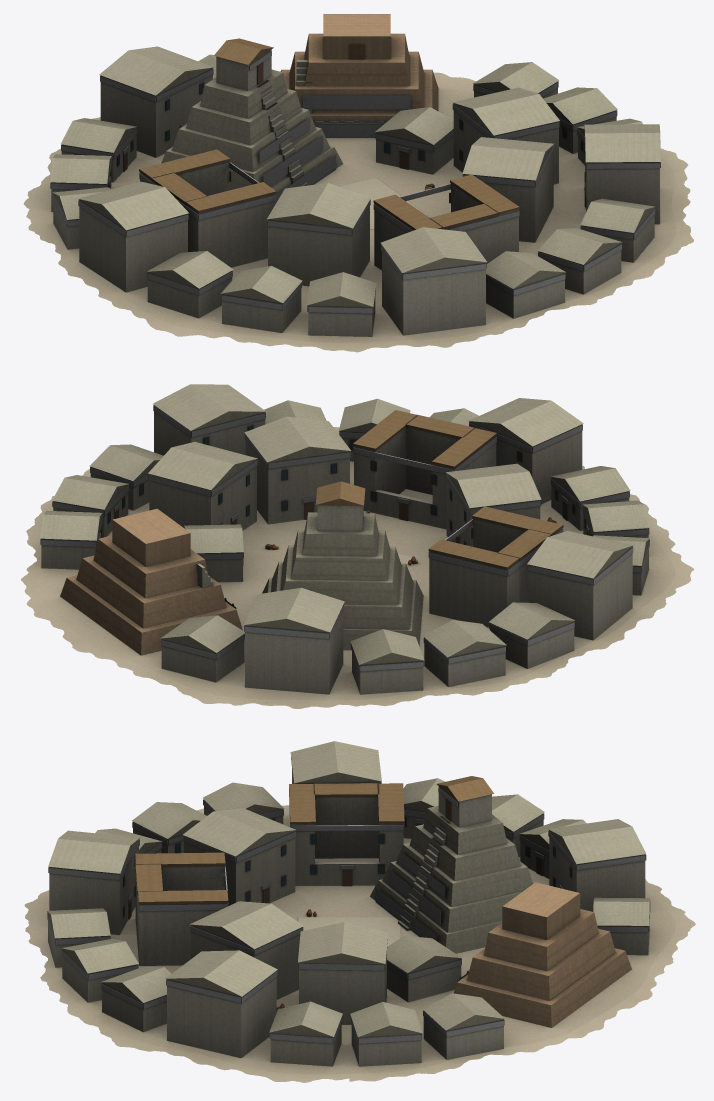
File: classical-town-big-a-americas.glb
3 renders of one model, top to bottom at view 1: azimuth 30°, elevation 25°; view 2: azimuth 150°, elevation 25°; view 3: azimuth 270°, elevation 25°, orthographic.
Visible parts, largest first — view 1: LOD0; view 2: LOD0; view 3: LOD0.
Part boxes in pixels (x1=…): LOD0: x1=23, y1=14, x2=693, y2=352; LOD0: x1=21, y1=384, x2=693, y2=708; LOD0: x1=24, y1=741, x2=695, y2=1082.
Size of what is drawn, in the model's own units: 7.9 by 1.73 by 8.05.
Materials: 3 (3 with a texture image).
